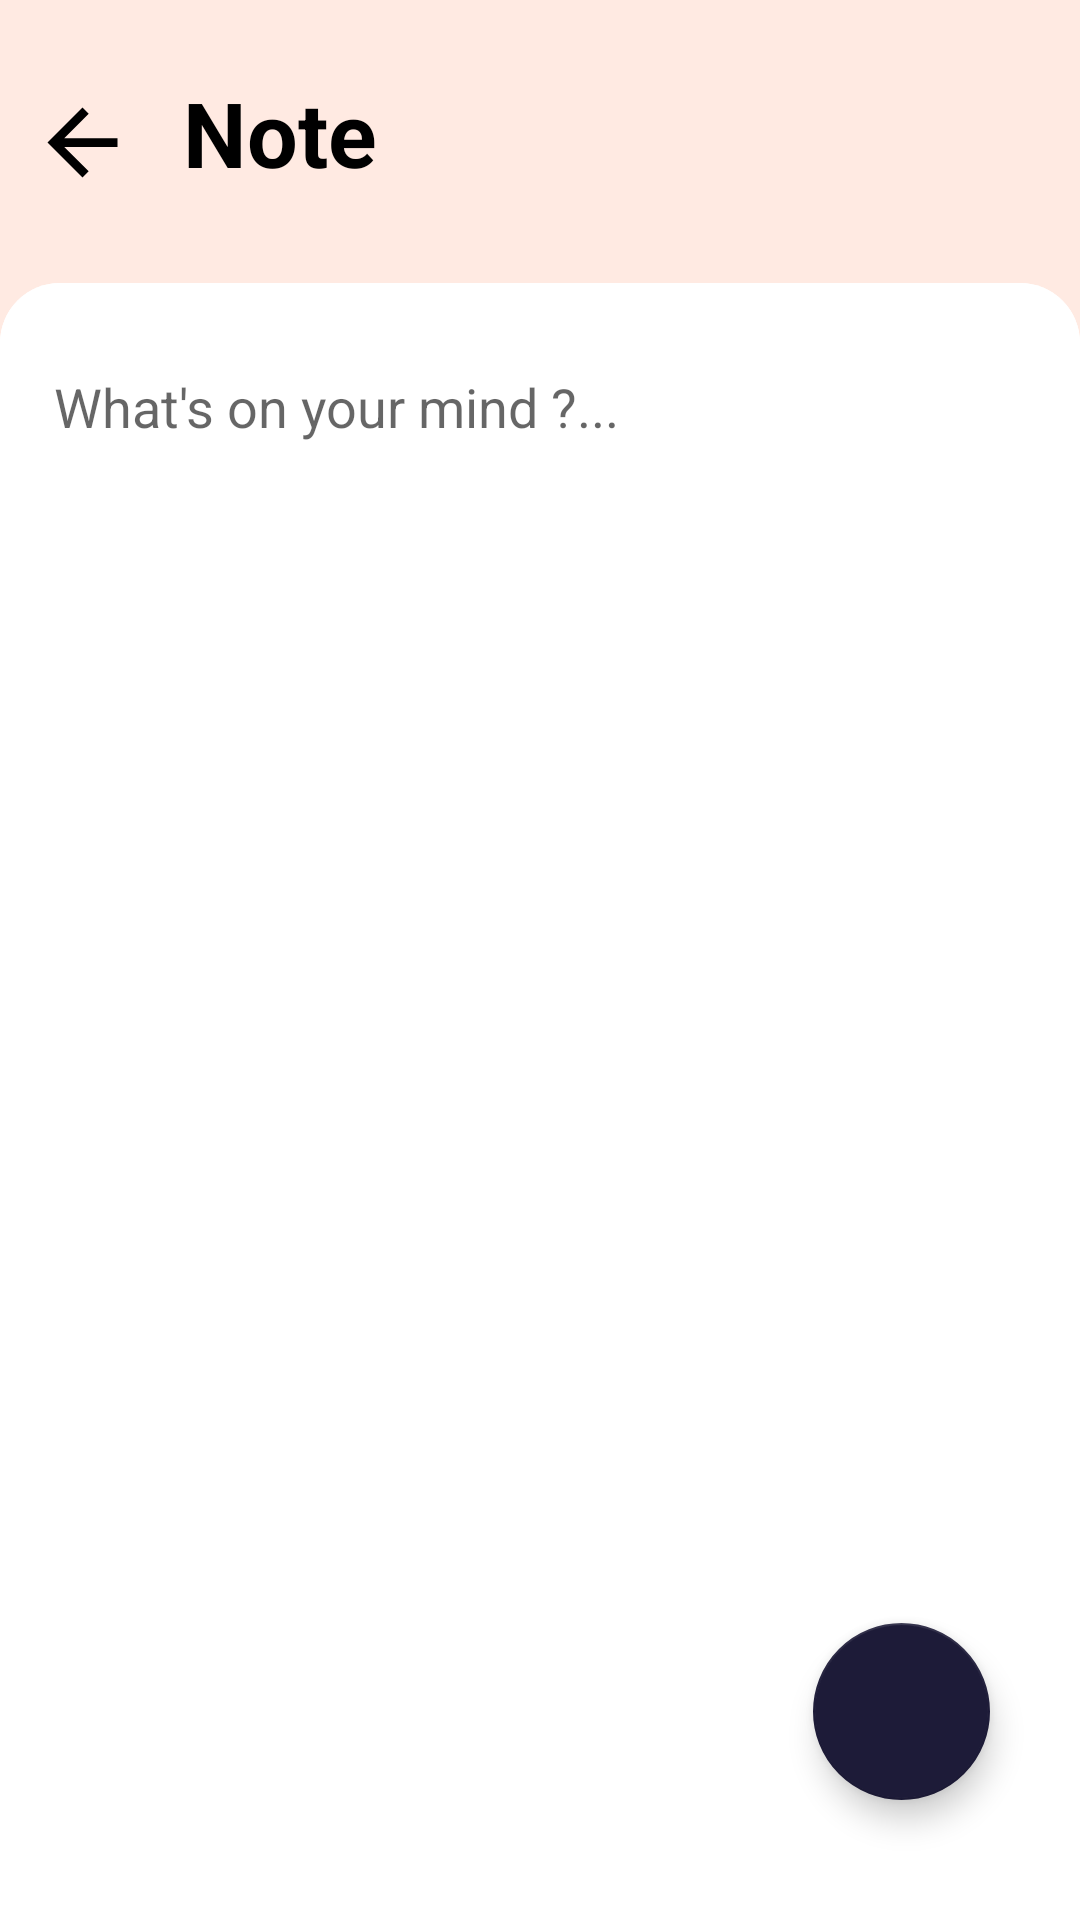

Icons on this 1080 × 1920 Android screen, each with the point to tap as point (x, y):
arrow back: point (82, 142)
